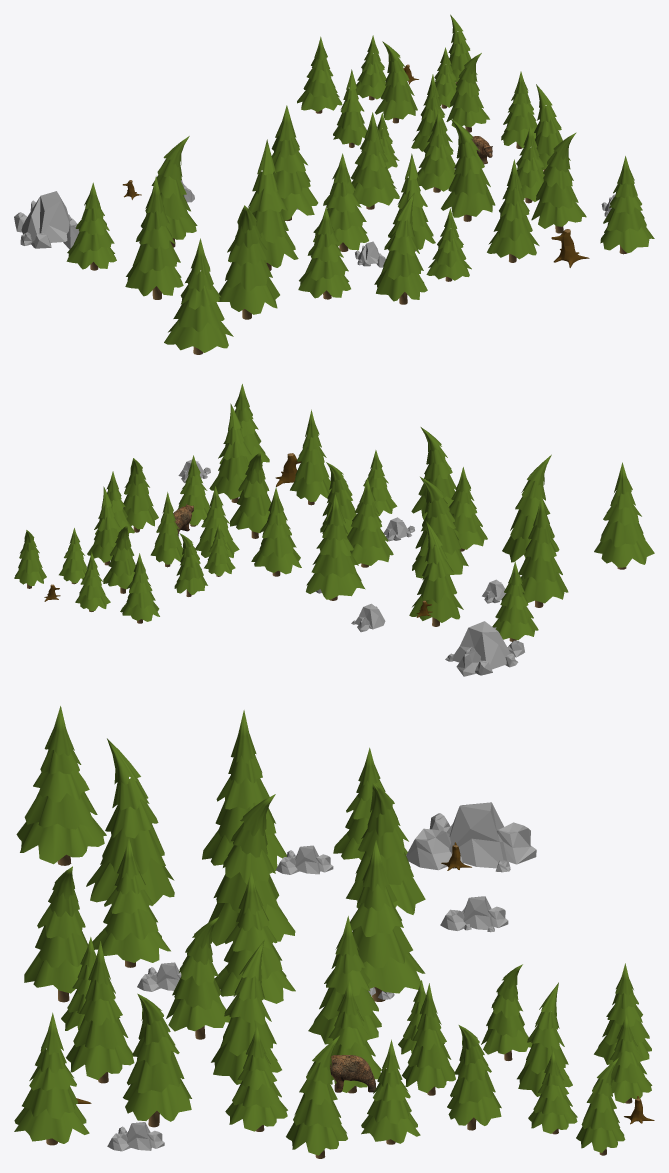
The model's file is world_grab.glb.
3 views of the same model, one above another, from view 1: azimuth 30°, elevation 25°; view 2: azimuth 150°, elevation 25°; view 3: azimuth 270°, elevation 25° (orthographic). The views are drawn at different scales.
Parts seen in each view (by area): view 1: Resource_PineTree_Group.001, Resource_PineTree_Group.002, Resource_PineTree_Group.003, group1988159041.001, Tron008; view 2: Resource_PineTree_Group.001, Resource_PineTree_Group.002, Resource_PineTree_Group.003, group1988159041.001, group1988159041, group1383753236.001; view 3: Resource_PineTree_Group.001, Resource_PineTree_Group.002, Resource_PineTree_Group.003, group1988159041.001, group765248285.001, Plane, group1383753236.001, group1988159041.
Boxes of the visible parts, bbox=[...] form: Resource_PineTree_Group.001: bbox=[66, 105, 427, 354]; Resource_PineTree_Group.002: bbox=[351, 84, 654, 281]; Resource_PineTree_Group.003: bbox=[297, 14, 537, 168]; group1988159041.001: bbox=[21, 191, 70, 242]; Tron008: bbox=[551, 229, 589, 267]; Resource_PineTree_Group.001: bbox=[306, 427, 654, 641]; Resource_PineTree_Group.002: bbox=[123, 384, 397, 576]; Resource_PineTree_Group.003: bbox=[14, 471, 235, 623]; group1988159041.001: bbox=[452, 621, 509, 669]; group1988159041: bbox=[355, 603, 385, 629]; group1383753236.001: bbox=[456, 647, 480, 676]; Resource_PineTree_Group.001: bbox=[16, 706, 425, 1003]; Resource_PineTree_Group.002: bbox=[14, 916, 381, 1158]; Resource_PineTree_Group.003: bbox=[361, 963, 652, 1155]; group1988159041.001: bbox=[446, 802, 506, 868]; group765248285.001: bbox=[406, 828, 451, 870]; Plane: bbox=[330, 1055, 375, 1092]; group1383753236.001: bbox=[497, 822, 536, 864]; group1988159041: bbox=[462, 896, 492, 930].
Size of the model in its own units: 50.43 by 11.83 by 40.57.
19 materials, 1 textured.
